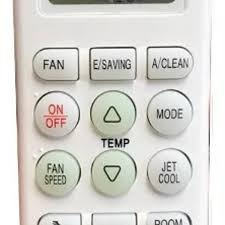remote control: (25, 39, 208, 225)
